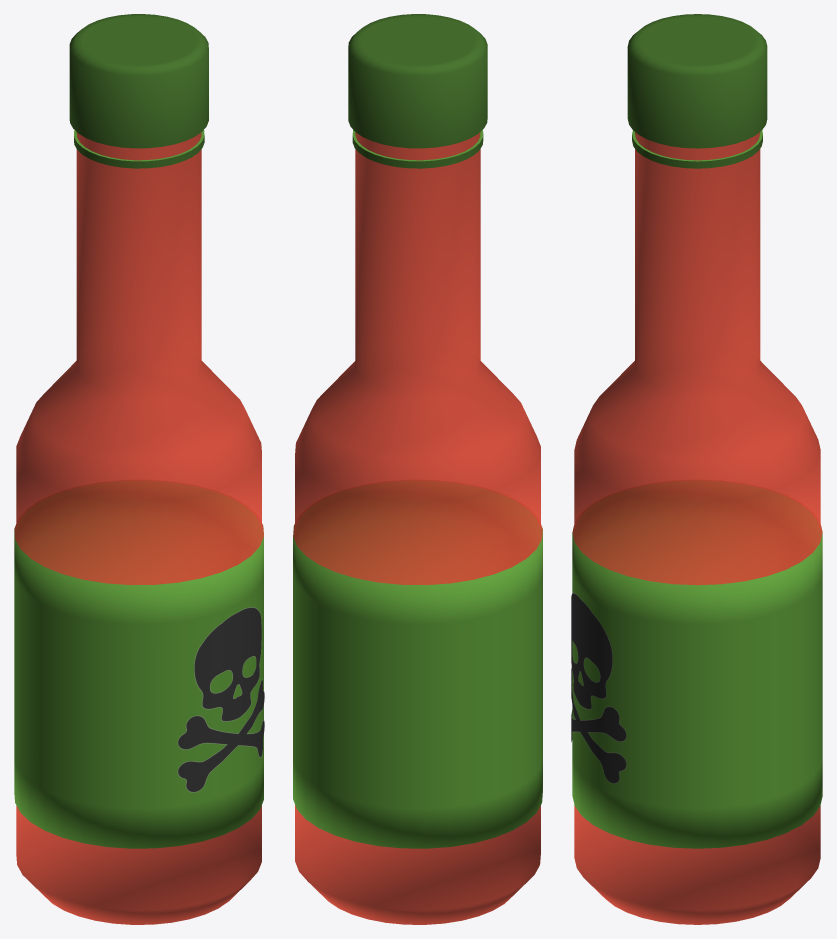
File: sauce.glb
3 renders of one model, left to right at view 1: azimuth 30°, elevation 25°; view 2: azimuth 150°, elevation 25°; view 3: azimuth 270°, elevation 25°, orthographic.
Parts seen in each view (by area): view 1: Cylinder.015; view 2: Cylinder.015; view 3: Cylinder.015.
Boxes of the visible parts, x1,y1,x2,y2 form: Cylinder.015: [14, 14, 264, 924]; Cylinder.015: [293, 14, 542, 924]; Cylinder.015: [571, 14, 822, 924].
Bounding box in the file's own units: 0.9117 × 3.38 × 0.9158.
Materials: 4 (1 with a texture image).
